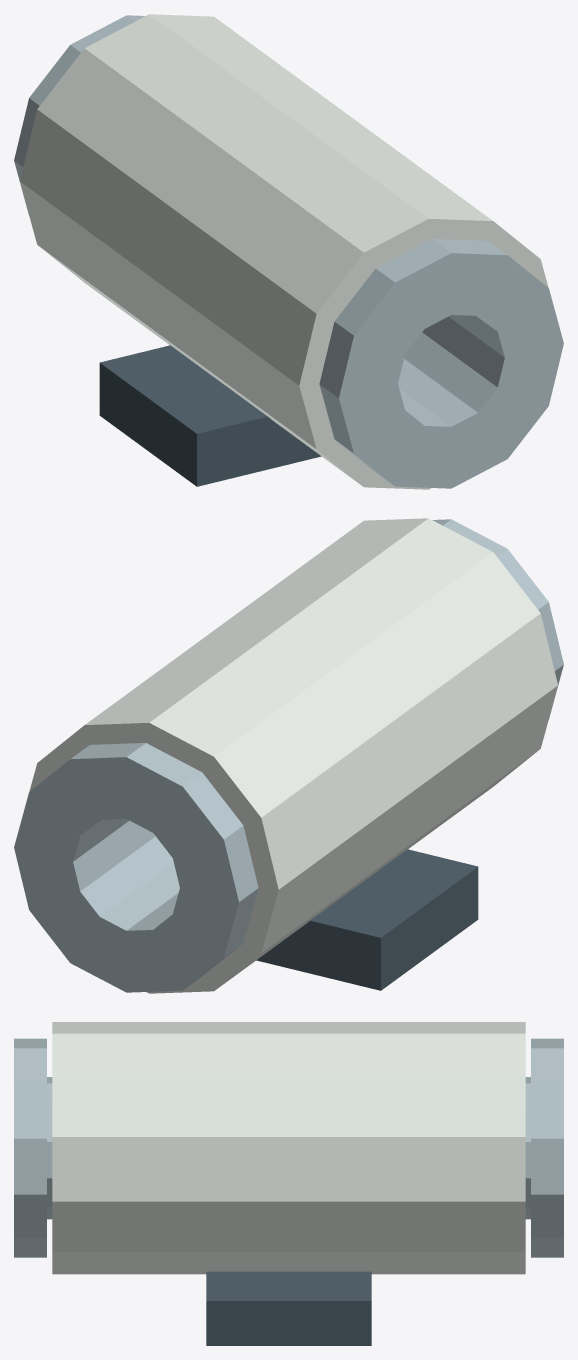
File: insulated-steam-pipe.glb
The picture shows the model from 3 angles, top to bottom: view 1: azimuth 30°, elevation 25°; view 2: azimuth 150°, elevation 25°; view 3: azimuth 270°, elevation 25°; orthographic projection. The views are drawn at different scales.
Visible parts, largest first — view 1: cream, steel, dark; view 2: cream, steel, dark; view 3: cream, steel, dark.
Part boxes in pixels (<box>): cream: <box>20,14,548,489</box>; steel: <box>14,15,563,488</box>; dark: <box>99,345,321,486</box>; cream: <box>29,518,557,993</box>; steel: <box>14,519,563,992</box>; dark: <box>256,849,478,990</box>; cream: <box>52,1022,525,1274</box>; steel: <box>14,1038,563,1257</box>; dark: <box>206,1271,371,1345</box>.
Bounding box in the file's own units: 0.5 × 0.51 × 1.
